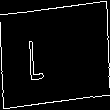L_N: (46, 28, 64, 82)
